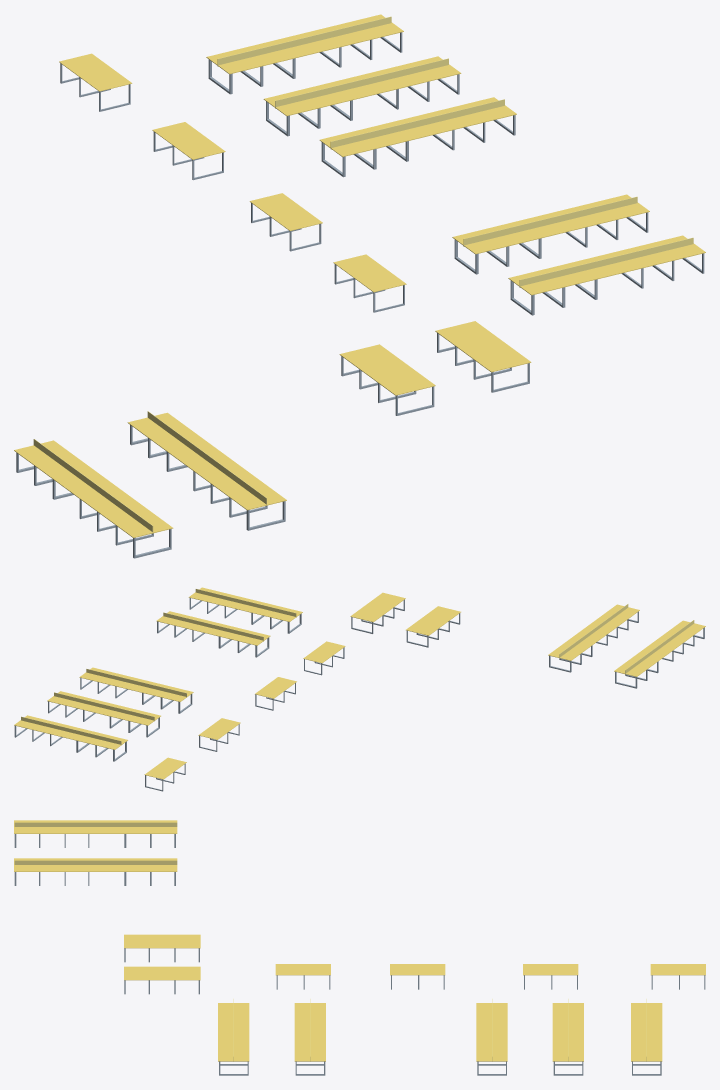
The model's file is tables.glb.
3 views of the same model, one above another, from view 1: azimuth 30°, elevation 25°; view 2: azimuth 150°, elevation 25°; view 3: azimuth 270°, elevation 25° (orthographic). The views are drawn at different scales.
Visible parts, largest first — view 1: Table.014, Table.012, Table.004, Table.013, Table.002, Table.001, Table.003, Table.010, Table.009, Table.005, Table.008, Table.006 (+1 smaller); view 2: Table.012, Table.014, Table.013, Table.002, Table.004, Table.003, Table.001, Table.010, Table.009, Table.006, Table.007, Table.005 (+1 smaller); view 3: Table.012, Table.014, Table.013, Table.003, Table.004, Table.002, Table.001, Table.010, Table.009, Table.008, Table.005, Table.007 (+1 smaller).
Part boxes in pixels (x1,y1,x2,y2): Table.014: (127,411,286,530); Table.012: (14,439,173,558); Table.004: (508,235,705,315); Table.013: (452,194,649,274); Table.002: (319,97,516,177); Table.001: (206,14,403,94); Table.003: (263,56,461,136); Table.010: (339,344,435,415); Table.009: (435,321,531,392); Table.005: (249,193,322,251); Table.008: (333,254,406,312); Table.006: (152,122,225,180); Table.012: (614,620,705,688); Table.014: (548,604,639,672); Table.013: (156,611,270,657); Table.002: (79,667,193,713); Table.004: (188,587,302,633); Table.003: (47,691,160,737); Table.001: (14,715,127,761); Table.010: (406,606,460,647); Table.009: (350,592,405,633); Table.006: (198,718,240,751); Table.007: (144,757,186,791); Table.005: (255,677,296,710); Table.012: (14,820,177,847); Table.014: (14,858,177,885); Table.013: (294,999,325,1075); Table.003: (552,999,583,1075); Table.004: (218,999,249,1075); Table.002: (476,999,507,1075); Table.001: (631,999,662,1075); Table.010: (124,934,200,962); Table.009: (124,966,200,994); Table.008: (275,964,330,989); Table.005: (390,964,445,989); Table.007: (650,964,705,989).
Bounding box in the file's own units: 26.43 × 0.98 × 32.1.
Materials: 1 (1 with a texture image).
